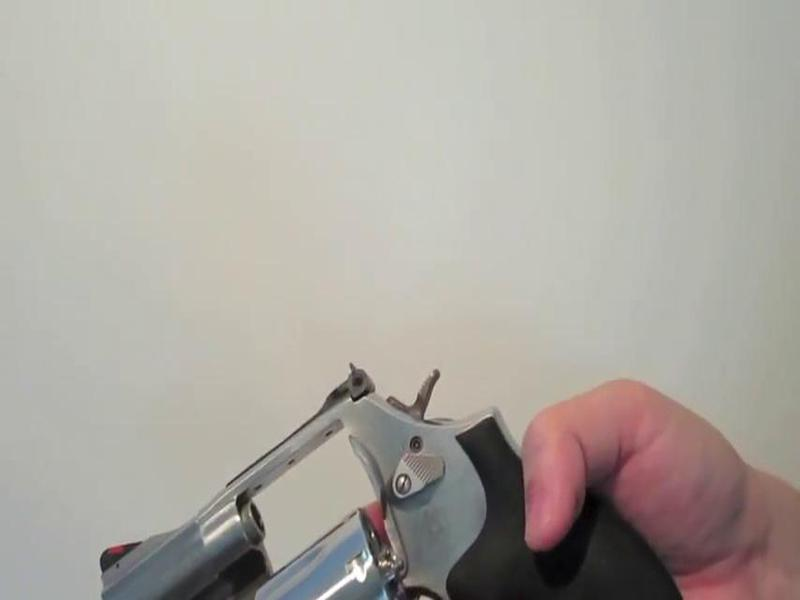Revolver: (17, 348, 697, 600)
